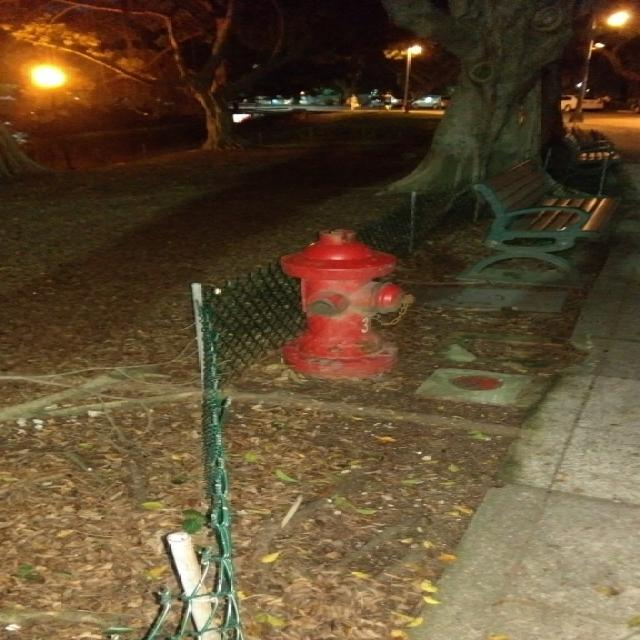fire_hydrant: (280, 230, 414, 386)
